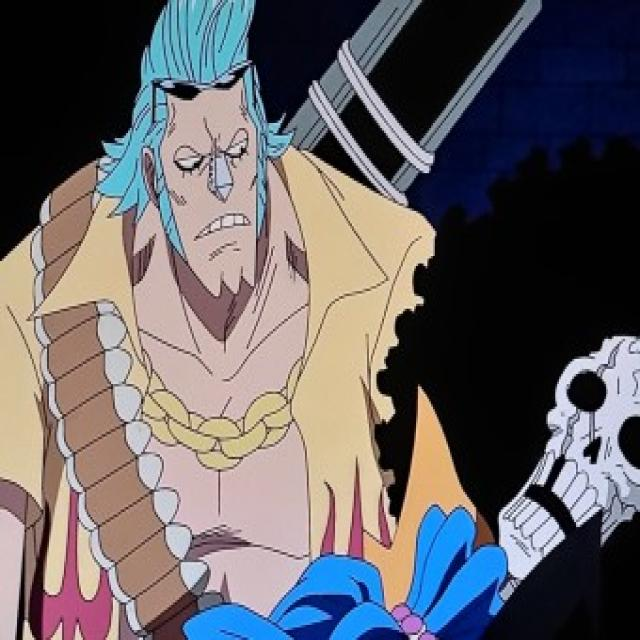Blook: (389, 162, 640, 640)
Franky: (92, 0, 278, 296)
